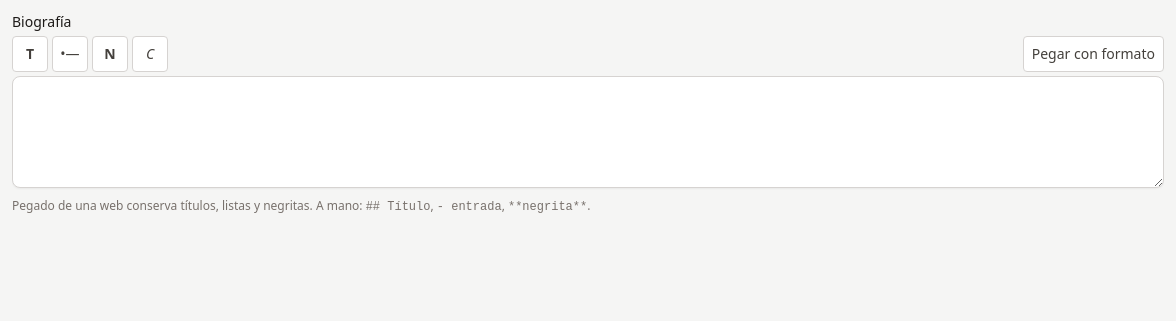
Test case: el campo de un texto con marcas › y si el portapapeles no trae formato, lo dice con la salida
Click the button "Pegar con formato".
click(1093, 54)  # box [1023,36,1164,72]
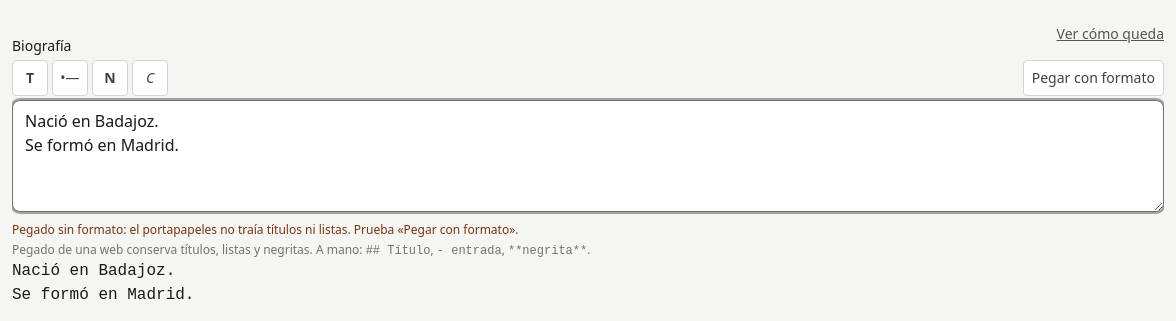
Check: the text "Nació en Badajoz." is shown, box [12,262,194,304]
Check: the message shows "sin formato", box [12,221,518,238]
